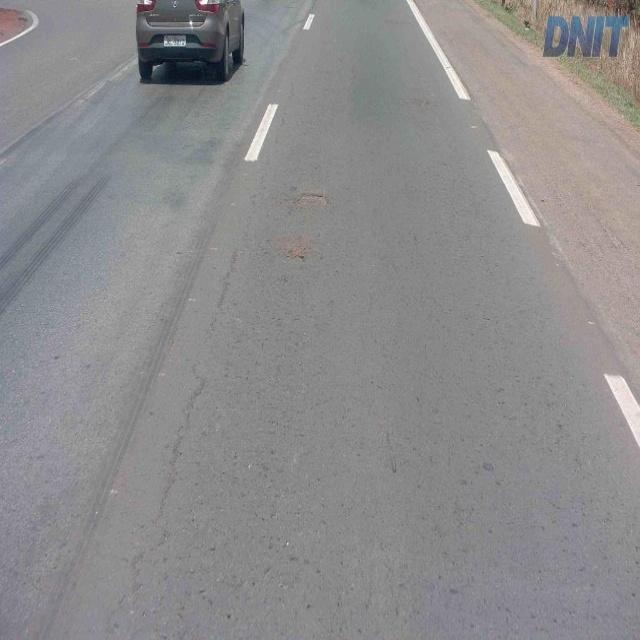pothole: (288, 187, 332, 211)
